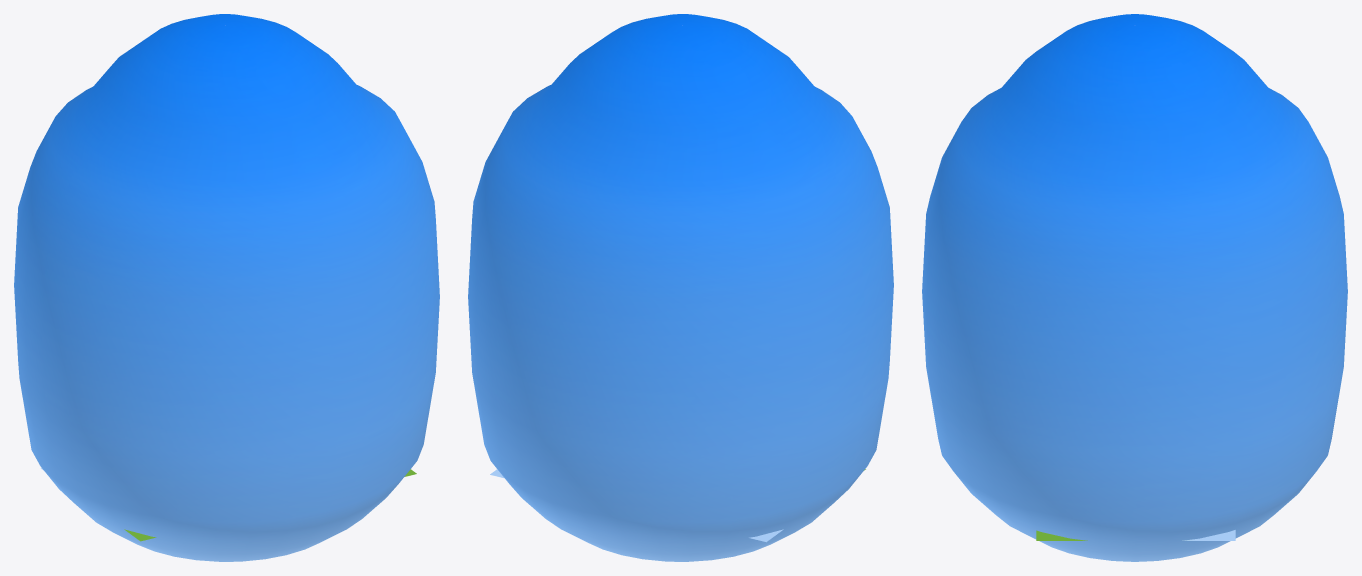
The model's file is musti_-_outside.glb.
3 views of the same model, side by side, from view 1: azimuth 30°, elevation 25°; view 2: azimuth 150°, elevation 25°; view 3: azimuth 270°, elevation 25° (orthographic).
Parts seen in each view (by area): view 1: Sphere_248; view 2: Sphere_248; view 3: Sphere_248, Ground_179.
Part boxes in pixels (left/top/right/bottom): Sphere_248: left=14, top=14, right=439, bottom=561; Sphere_248: left=468, top=14, right=893, bottom=561; Sphere_248: left=922, top=14, right=1347, bottom=561; Ground_179: left=1036, top=530, right=1235, bottom=540.
Bounding box in the file's own units: 534 × 712 × 534.
Materials: 12 (11 with a texture image).
